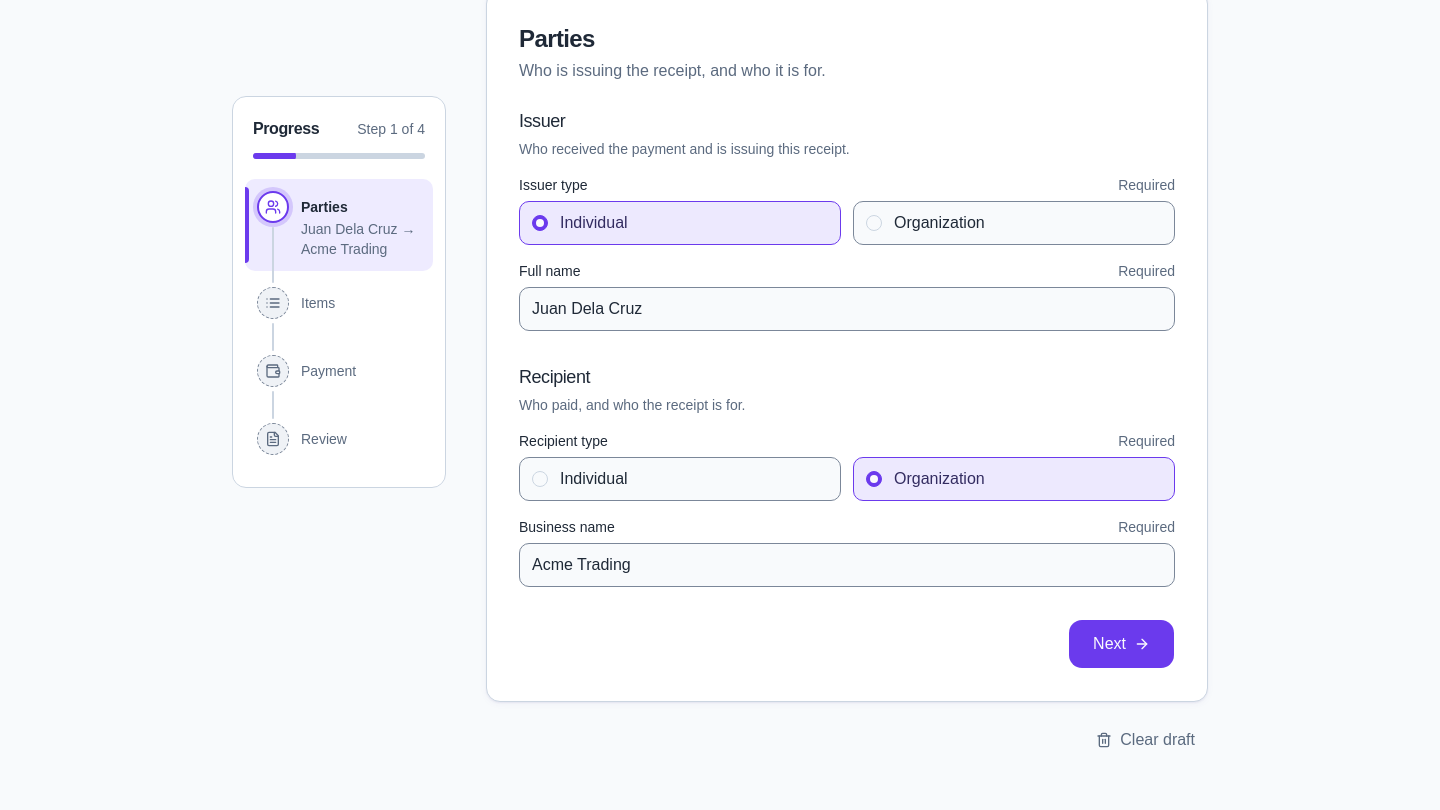
Test: the wizard shell › moves focus to the step heading and announces the step on a change
(page scrolled)
Click the button "Next" at (1122, 644), box [1068, 619, 1175, 669]
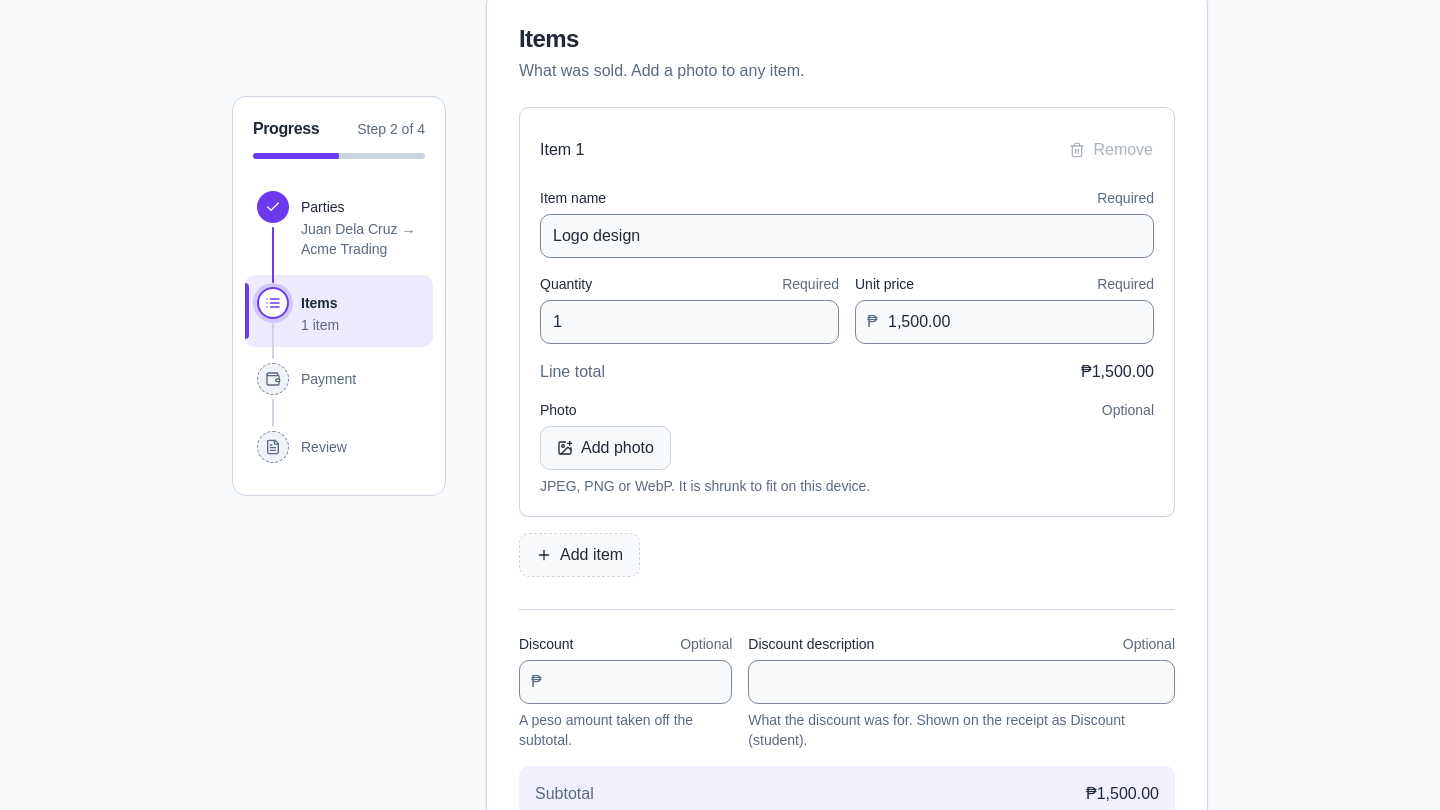
Expected: the heading "Items" is shown, [519, 25, 579, 52]
